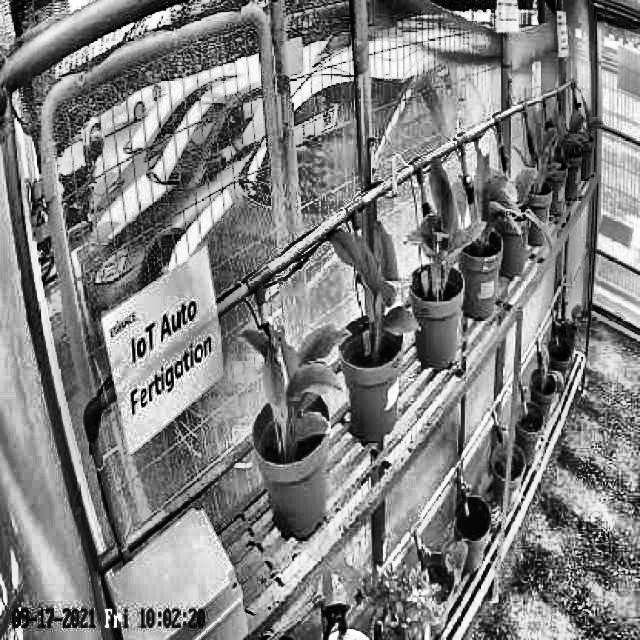plants: (240, 318, 342, 464), (323, 219, 420, 356), (402, 157, 484, 306), (456, 157, 516, 265)
